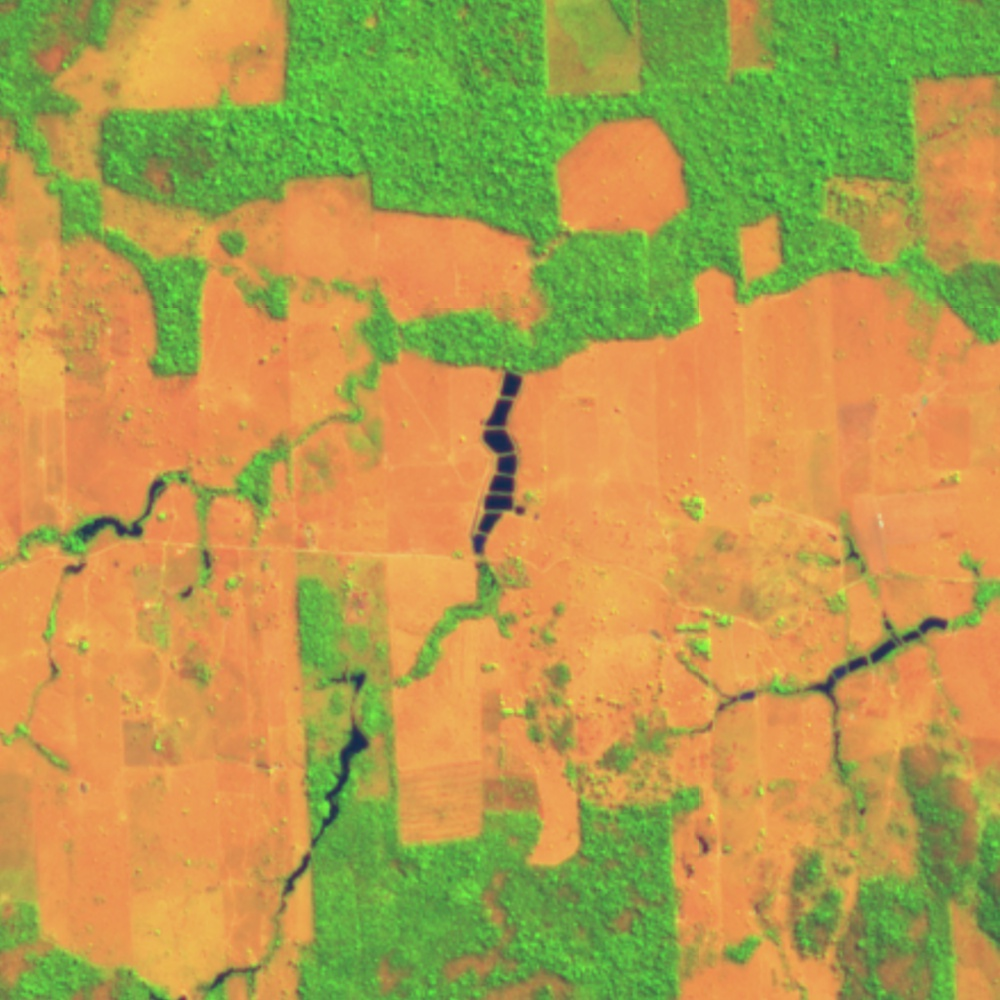illegal: (694, 607, 961, 777), (269, 666, 378, 918), (58, 467, 191, 578), (463, 365, 531, 563), (152, 957, 268, 1000), (822, 526, 869, 575)
